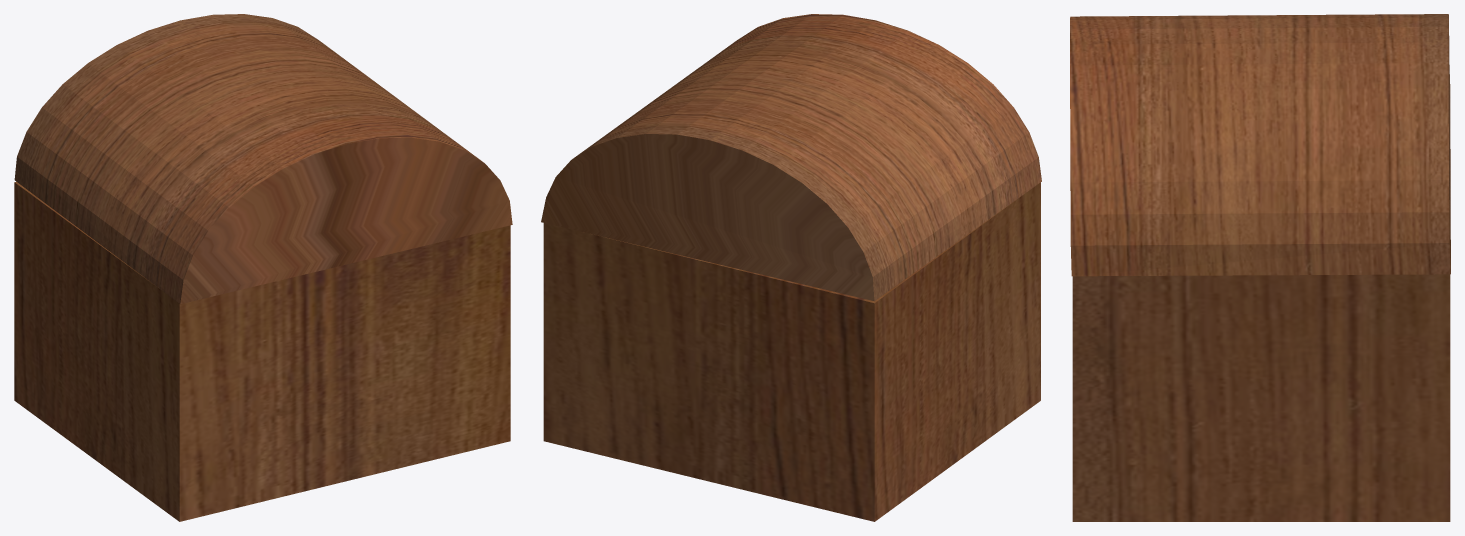
The model's file is Cofre.obj.
3 renders of one model, left to right at view 1: azimuth 30°, elevation 25°; view 2: azimuth 150°, elevation 25°; view 3: azimuth 270°, elevation 25°, orthographic. The views are drawn at different scales.
Visible parts, largest first — view 1: Cofre; view 2: Cofre; view 3: Cofre.
Part boxes in pixels (left/top/right/bottom): Cofre: left=14, top=14, right=512, bottom=521; Cofre: left=541, top=14, right=1041, bottom=521; Cofre: left=1070, top=14, right=1450, bottom=521.
Size of the model in its own units: 3.02 by 2.94 by 2.62.
